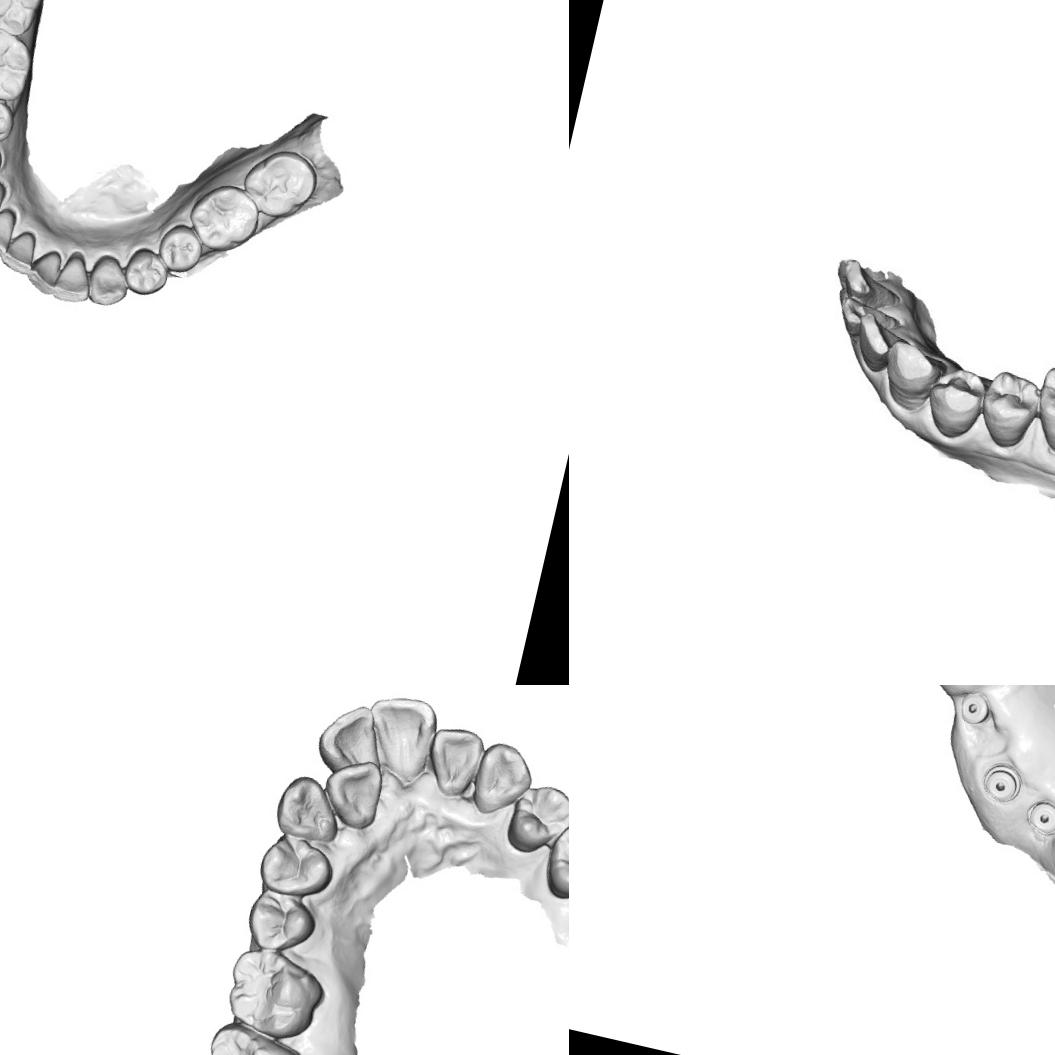canine: (465, 735, 542, 824), (268, 769, 350, 850), (876, 335, 948, 416), (83, 251, 135, 310)
implant: (978, 759, 1024, 807), (953, 685, 996, 730), (1021, 794, 1055, 840)
incisor: (351, 685, 447, 795), (308, 698, 400, 800), (420, 714, 488, 802), (317, 754, 388, 833), (832, 255, 911, 316), (832, 289, 907, 352), (849, 309, 905, 376), (50, 246, 98, 307), (22, 244, 65, 296), (0, 225, 39, 276), (0, 201, 20, 260)
molar: (217, 940, 334, 1049), (236, 142, 322, 225), (182, 176, 266, 260), (197, 1015, 310, 1055), (1023, 346, 1055, 467), (0, 21, 38, 106), (0, 0, 51, 41)
premolar: (240, 878, 322, 962), (970, 364, 1046, 452), (252, 830, 339, 906), (499, 774, 569, 864), (922, 360, 993, 443), (119, 244, 174, 300), (154, 219, 207, 277), (538, 816, 569, 910), (0, 91, 19, 148)
